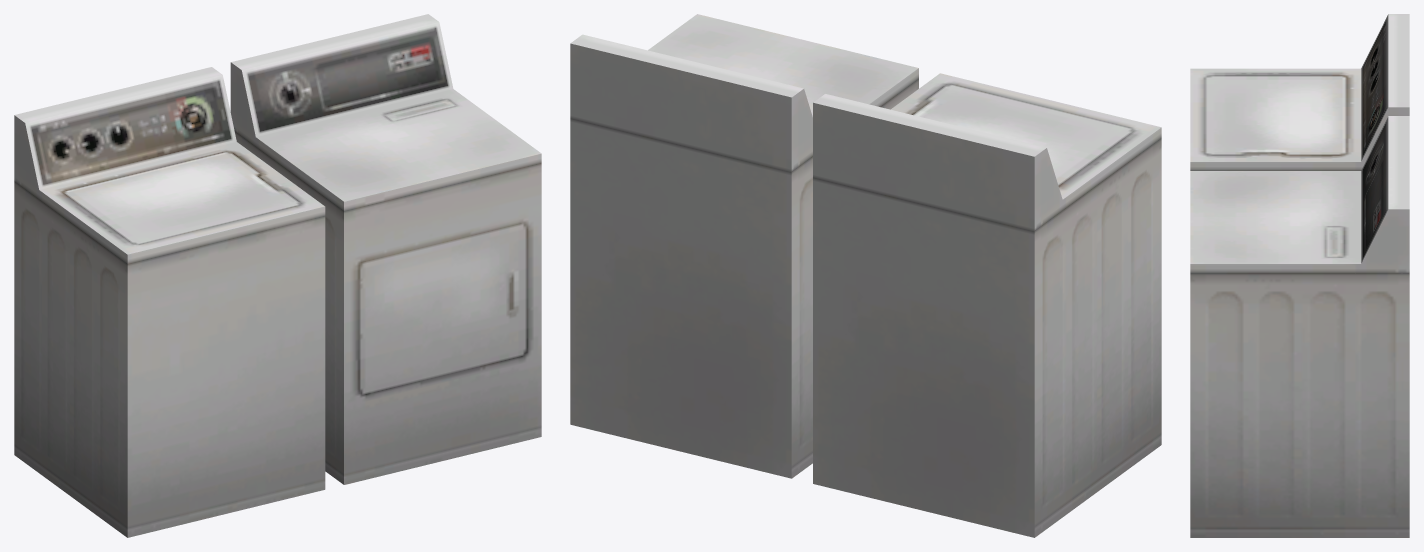
Rendered from washerdryer.fbx.
3 views of the same model, side by side, from view 1: azimuth 30°, elevation 25°; view 2: azimuth 150°, elevation 25°; view 3: azimuth 270°, elevation 25° (orthographic). The views are drawn at different scales.
Parts seen in each view (by area): view 1: mesh_0; view 2: mesh_0; view 3: mesh_0.
Part boxes in pixels (left/top/right/bottom): mesh_0: left=14, top=14, right=541, bottom=537; mesh_0: left=570, top=14, right=1161, bottom=537; mesh_0: left=1190, top=14, right=1409, bottom=537.
Bounding box in the file's own units: 153 × 120 × 72.5.
Materials: 1 (1 with a texture image).
